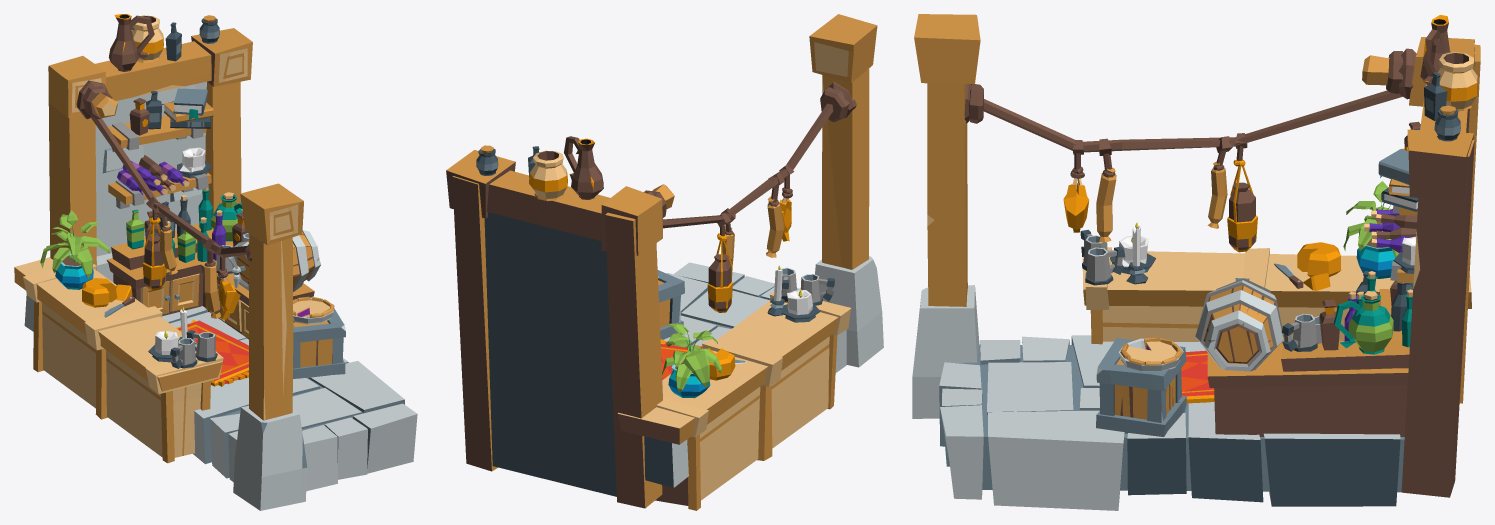
The model's file is scene_a66QAhUD4g.glb.
3 views of the same model, side by side, from view 1: azimuth 30°, elevation 25°; view 2: azimuth 150°, elevation 25°; view 3: azimuth 270°, elevation 25° (orthographic). The views are drawn at different scales.
Parts seen in each view (by area): view 1: group1055791412, group893421278, group1599486412, group1353060445, group2070848865, group1217172921, group87193513, group1638315193, group2075708629, group1203594532, group1101690769, group1673085950 (+22 smaller); view 2: group1353060445, group1055791412, group893421278, group2070848865, group1599486412, group1638315193, group1101690769, group1099449222, group642537923, group87193513, group2142783881, group19649914 (+4 smaller); view 3: group1599486412, group1055791412, group2070848865, group1217172921, group893421278, group1203594532, group87193513, group650919509, group642537923, group1638315193, group1099449222, group1072805274 (+16 smaller).
Boxes of the visible parts, bbox=[...] form: group1055791412: bbox=[48, 56, 307, 510]; group893421278: bbox=[14, 257, 223, 463]; group1599486412: bbox=[162, 306, 417, 491]; group1353060445: bbox=[24, 41, 211, 331]; group2070848865: bbox=[191, 28, 252, 214]; group1217172921: bbox=[106, 224, 314, 339]; group87193513: bbox=[293, 308, 345, 378]; group1638315193: bbox=[40, 210, 110, 289]; group2075708629: bbox=[176, 319, 248, 386]; group1203594532: bbox=[232, 230, 320, 291]; group1101690769: bbox=[108, 14, 154, 71]; group1673085950: bbox=[108, 115, 206, 151]; group1353060445: bbox=[484, 170, 688, 496]; group1055791412: bbox=[601, 14, 883, 508]; group893421278: bbox=[617, 292, 851, 510]; group2070848865: bbox=[446, 150, 515, 471]; group1599486412: bbox=[663, 262, 800, 346]; group1638315193: bbox=[662, 323, 721, 398]; group1101690769: bbox=[564, 136, 603, 199]; group1099449222: bbox=[529, 150, 567, 201]; group642537923: bbox=[707, 212, 732, 312]; group87193513: bbox=[657, 270, 684, 339]; group2142783881: bbox=[766, 172, 784, 257]; group19649914: bbox=[781, 289, 820, 322]; group1599486412: bbox=[939, 335, 1404, 510]; group1055791412: bbox=[912, 14, 1480, 418]; group2070848865: bbox=[1401, 129, 1474, 497]; group1217172921: bbox=[1207, 289, 1409, 436]; group893421278: bbox=[1082, 247, 1471, 344]; group1203594532: bbox=[1195, 278, 1283, 371]; group87193513: bbox=[1096, 337, 1186, 436]; group650919509: bbox=[1334, 291, 1393, 354]; group642537923: bbox=[1227, 133, 1257, 252]; group1638315193: bbox=[1343, 181, 1398, 278]; group1099449222: bbox=[1437, 51, 1477, 111]; group1072805274: bbox=[1118, 337, 1183, 371].
Size of the model in its own units: 2.41 by 3.38 by 4.1.
